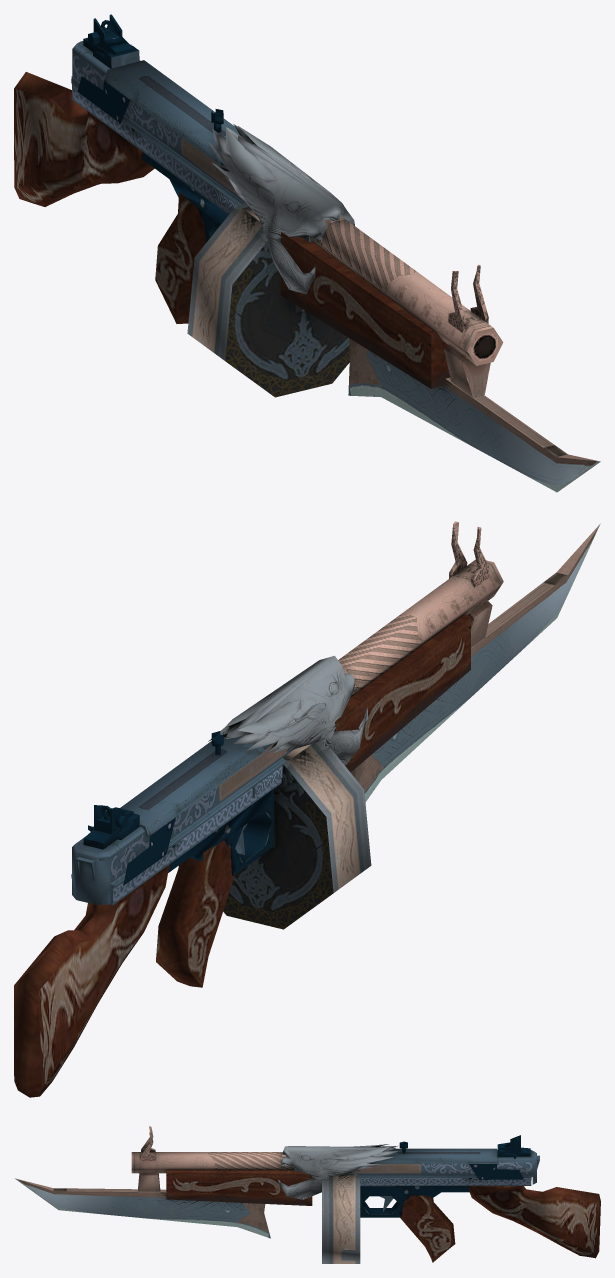
The model's file is SMG_pw_1038Tompson_feihu_lod1_0_Body_LOD_(000628).glb.
3 renders of one model, top to bottom at view 1: azimuth 30°, elevation 25°; view 2: azimuth 150°, elevation 25°; view 3: azimuth 270°, elevation 25°, orthographic. The views are drawn at different scales.
Visible parts, largest first — view 1: pw_1038 Tompson_feihu_lod1_0; view 2: pw_1038 Tompson_feihu_lod1_0; view 3: pw_1038 Tompson_feihu_lod1_0.
Part boxes in pixels (x1,y1,x2,y2): pw_1038 Tompson_feihu_lod1_0: (14,14,600,492); pw_1038 Tompson_feihu_lod1_0: (14,521,600,1097); pw_1038 Tompson_feihu_lod1_0: (15,1126,600,1263).
Bounding box in the file's own units: 0.1671 × 0.2632 × 1.06.
2 materials, 2 textured.
